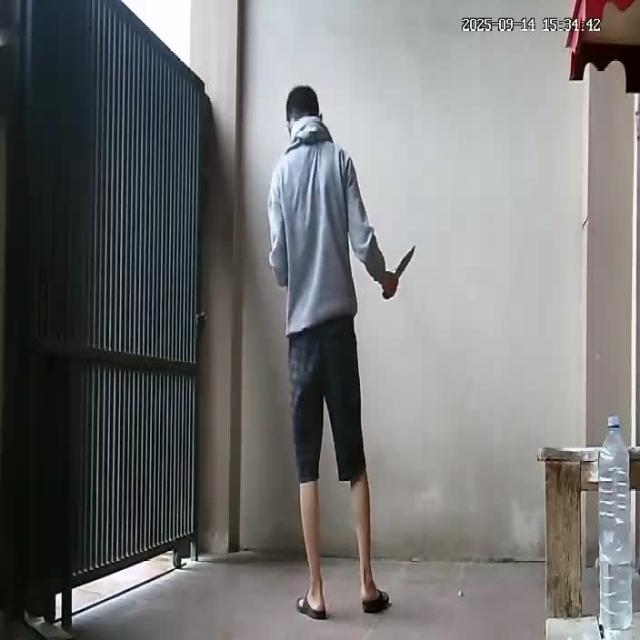senjata_tajam: (394, 240, 418, 278)
